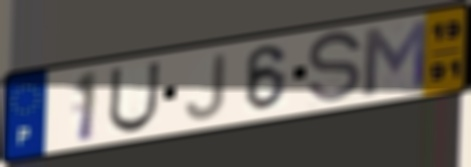1: (71, 68, 100, 143)
6: (241, 44, 290, 114)
J: (183, 50, 229, 122)
M: (360, 17, 431, 99)
S: (304, 27, 366, 108)
U: (105, 59, 163, 136)
